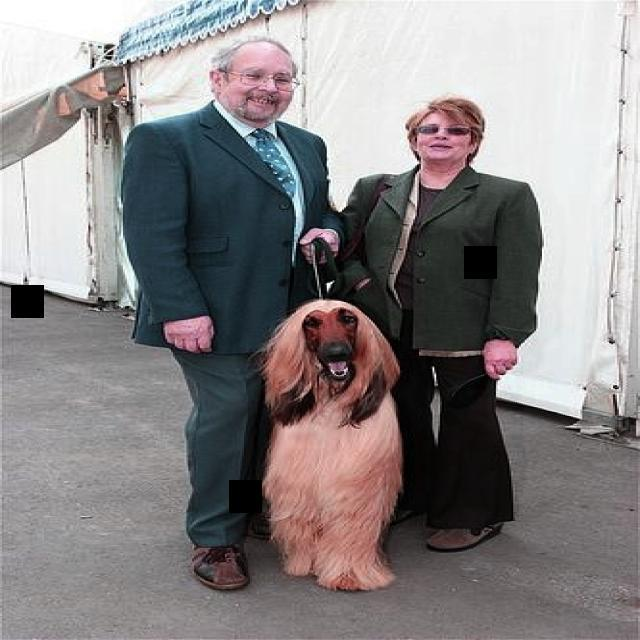adult_dog: (255, 299, 405, 594)
non-dog: (122, 34, 343, 592), (341, 88, 544, 556)
